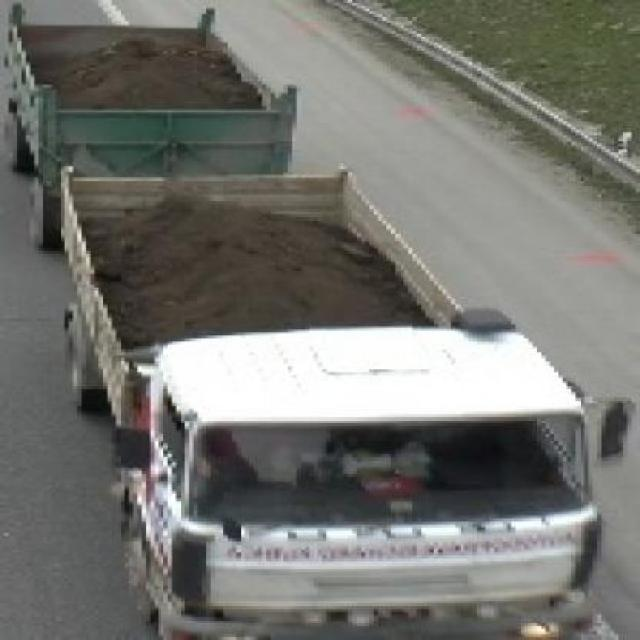truck: (1, 1, 628, 633)
